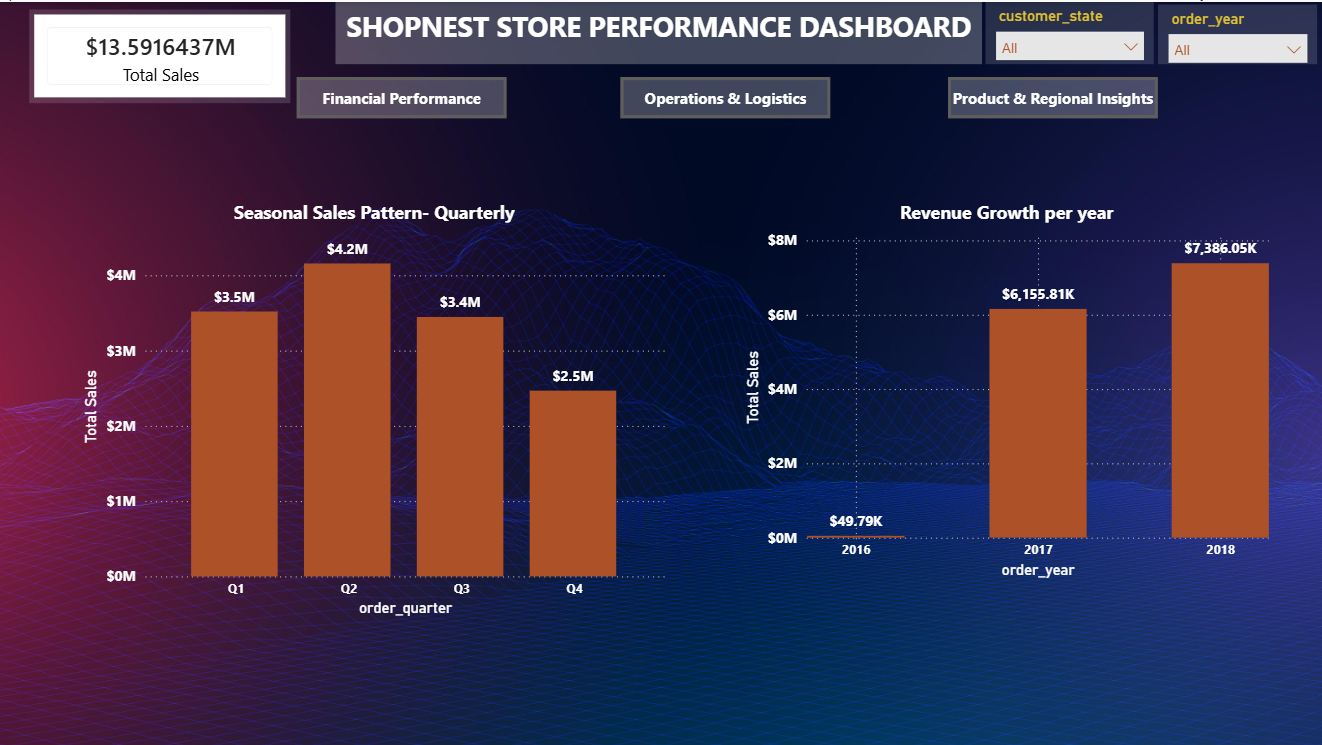

The dashboard page shown, as its layout file describes it:
{"tool":"powerbi","page":{"name":"Dashboard","canvas":[1280,720],"ordinal":0},"visuals":[{"type":"textbox","box":[325.5,0,623.7,59.9],"z":0},{"type":"slicer","fields":{"Values":["Nexusgoods_orders_dataset (1).order_year"]},"box":[1119.8,2.6,153.7,57.3],"z":1000},{"type":"slicer","fields":{"Values":["Nexusgoods_customers_dataset.customer_state"]},"box":[953.2,0,162.8,59.9],"z":2000},{"type":"actionButton","box":[288.3,72.4,202.7,39.8],"z":3000},{"type":"actionButton","box":[600.8,72.4,202.7,39.8],"z":4000},{"type":"actionButton","box":[916.9,72.4,202.7,39.8],"z":5000},{"type":"cardVisual","title":"Total Cumulative Revenue","fields":{"Data":["Nexusgoods_order_items_dataset.Total Sales"]},"box":[30.2,7.2,252.1,90.5],"z":6000},{"type":"clusteredColumnChart","title":"Revenue Growth per year","fields":{"Category":["Nexusgoods_orders_dataset (1).order_year"],"Y":["Nexusgoods_order_items_dataset.Total Sales"]},"box":[715.4,190.6,516.4,370.4],"z":7000},{"type":"clusteredColumnChart","title":"Seasonal Sales Pattern- Quarterly","fields":{"Category":["Nexusgoods_orders_dataset (1).order_quarter"],"Y":["Nexusgoods_order_items_dataset.Total Sales"]},"box":[77.2,190.6,571.9,407.8],"z":8000}]}

Visuals, with their boxes in screenshot pixels (x1, y1, x2, y2), scaled from the page's 1280x720 canvas onto the 1322x745 screenshot:
textbox: [x1=336, y1=0, x2=980, y2=62]
slicer - Nexusgoods_orders_dataset (1).order_year: [x1=1157, y1=3, x2=1315, y2=62]
slicer - Nexusgoods_customers_dataset.customer_state: [x1=984, y1=0, x2=1153, y2=62]
actionButton: [x1=298, y1=75, x2=507, y2=116]
actionButton: [x1=621, y1=75, x2=830, y2=116]
actionButton: [x1=947, y1=75, x2=1156, y2=116]
"Total Cumulative Revenue" cardVisual: [x1=31, y1=7, x2=292, y2=101]
"Revenue Growth per year" clusteredColumnChart: [x1=739, y1=197, x2=1272, y2=580]
"Seasonal Sales Pattern- Quarterly" clusteredColumnChart: [x1=80, y1=197, x2=670, y2=619]
